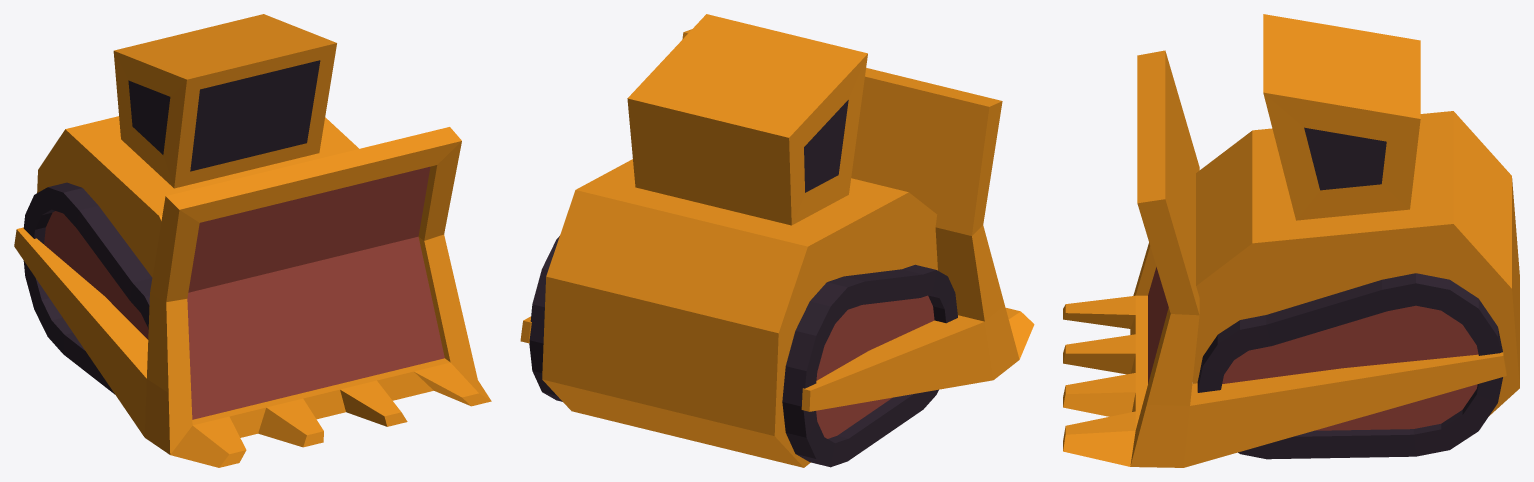
The model's file is Dozer.fbx.
3 renders of one model, left to right at view 1: azimuth 30°, elevation 25°; view 2: azimuth 150°, elevation 25°; view 3: azimuth 270°, elevation 25°, orthographic. The views are drawn at different scales.
Parts seen in each view (by area): view 1: Dozer; view 2: Dozer; view 3: Dozer.
Part boxes in pixels (box(x1,y1,x2,y2)): Dozer: box(14, 14, 491, 467); Dozer: box(520, 14, 1034, 467); Dozer: box(1063, 14, 1519, 467).
Size of the model in its own units: 2 by 1.96 by 2.39.
1 material, 1 textured.
